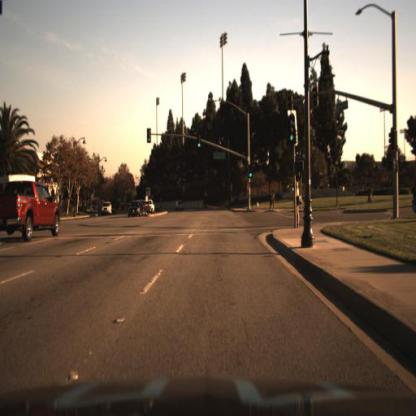car: (1, 178, 61, 240), (127, 200, 148, 222), (131, 200, 146, 220), (100, 201, 114, 218), (174, 200, 188, 213)
pedestrian: (294, 173, 308, 231), (294, 178, 302, 238), (266, 185, 274, 218), (368, 185, 377, 206), (269, 189, 275, 214), (273, 189, 278, 217), (367, 186, 374, 204), (366, 185, 371, 205)
trafficLight-Green: (146, 126, 154, 145), (148, 127, 155, 148), (196, 136, 204, 154), (247, 164, 254, 180)
